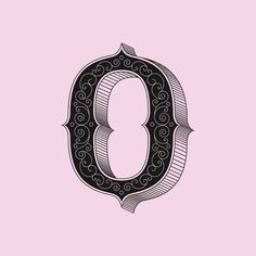o: (54, 35, 192, 225)
